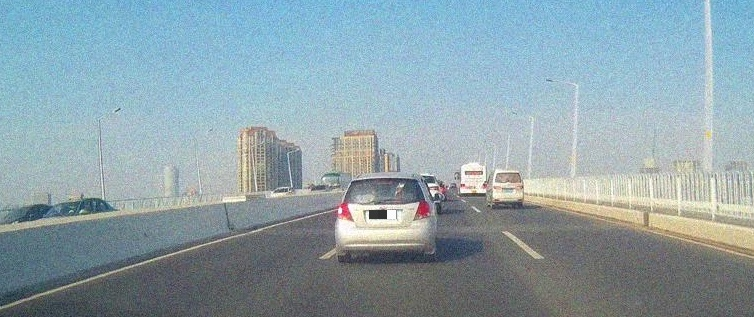L_light: (337, 203, 354, 222), (493, 186, 502, 190), (460, 183, 465, 187)
R_light: (413, 200, 432, 221), (516, 185, 523, 189), (483, 183, 487, 187)
T_light: (378, 179, 392, 183), (471, 166, 476, 169), (505, 172, 511, 174)
day-left: (335, 172, 436, 262)
day-no: (493, 170, 525, 208), (460, 163, 487, 196)
plate_1: (369, 210, 397, 219)
